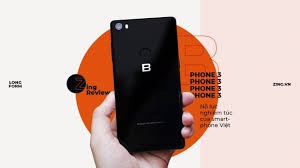bphone: (108, 15, 189, 155)
